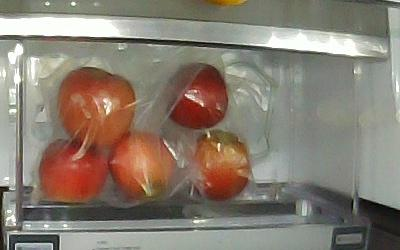apple_vinyl: (57, 66, 136, 150), (39, 139, 110, 206), (188, 128, 252, 199), (109, 134, 176, 200), (166, 64, 229, 131)
